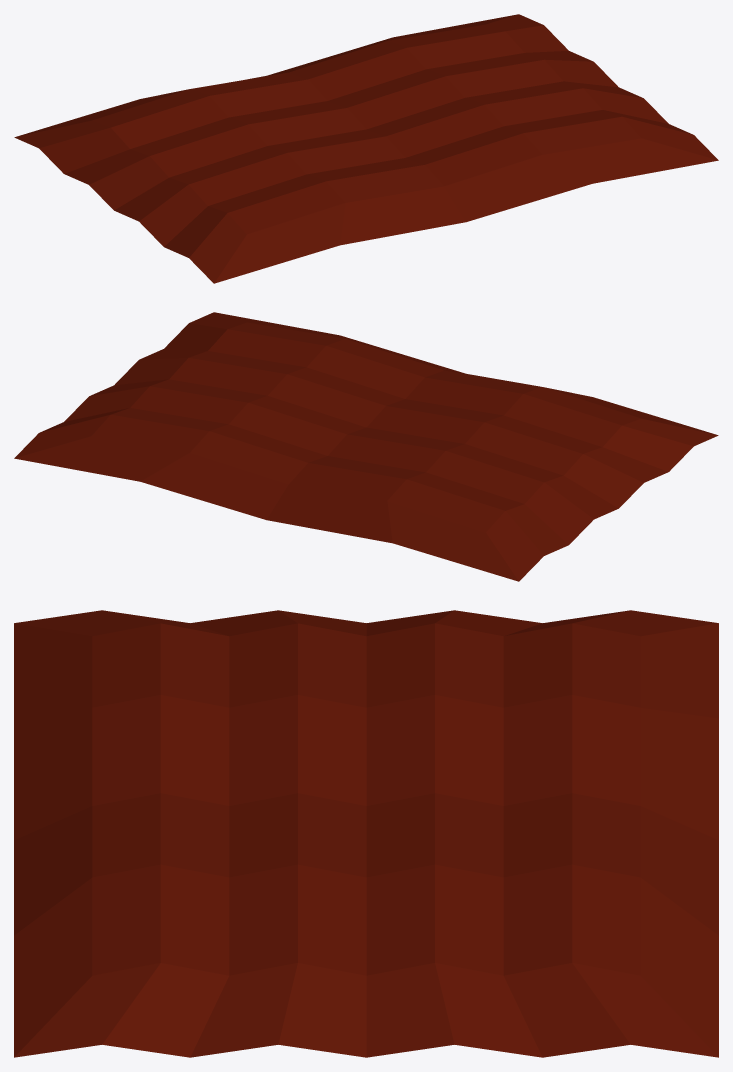
The model's file is TilledLand.fbx.
The picture shows the model from 3 angles, top to bottom: view 1: azimuth 30°, elevation 25°; view 2: azimuth 150°, elevation 25°; view 3: azimuth 270°, elevation 25°; orthographic projection. The views are drawn at different scales.
Parts seen in each view (by area): view 1: Cube.048; view 2: Cube.048; view 3: Cube.048.
Boxes of the visible parts, <box> form: Cube.048: <box>14,14,718,283</box>; Cube.048: <box>14,312,718,581</box>; Cube.048: <box>14,610,718,1057</box>.
Size of the model in its own units: 5992 by 390 by 4109.
